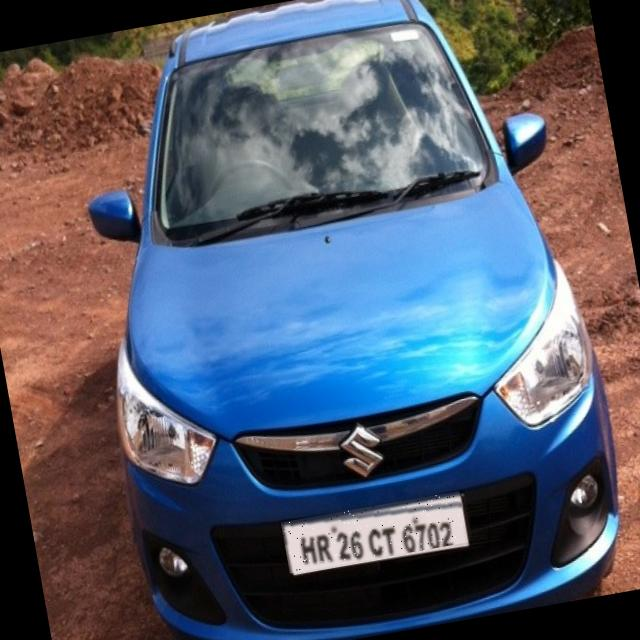Plate: (282, 492, 469, 575)
